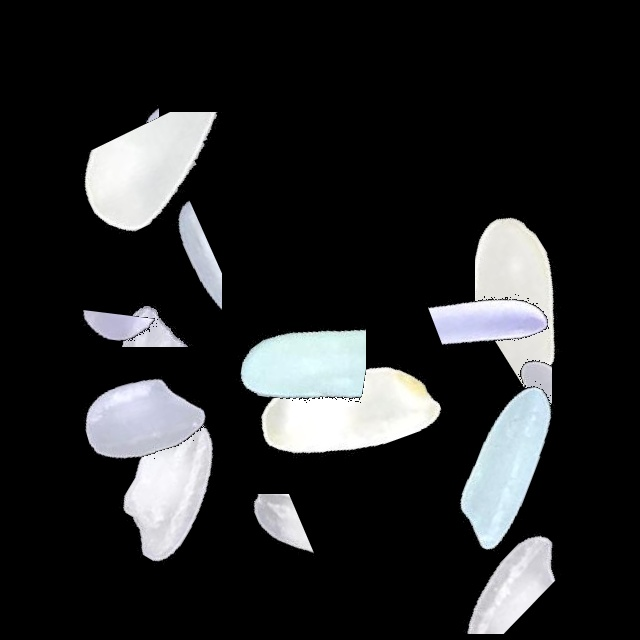Broken: (212, 231, 366, 481), (475, 164, 623, 414), (59, 112, 309, 256), (377, 241, 627, 379), (349, 497, 599, 634), (108, 160, 222, 410), (447, 265, 552, 515), (130, 494, 380, 595), (72, 238, 169, 488), (111, 174, 206, 424), (79, 2, 159, 252)
Full: (43, 360, 293, 610), (221, 285, 471, 535), (381, 340, 631, 590), (17, 291, 267, 541)
